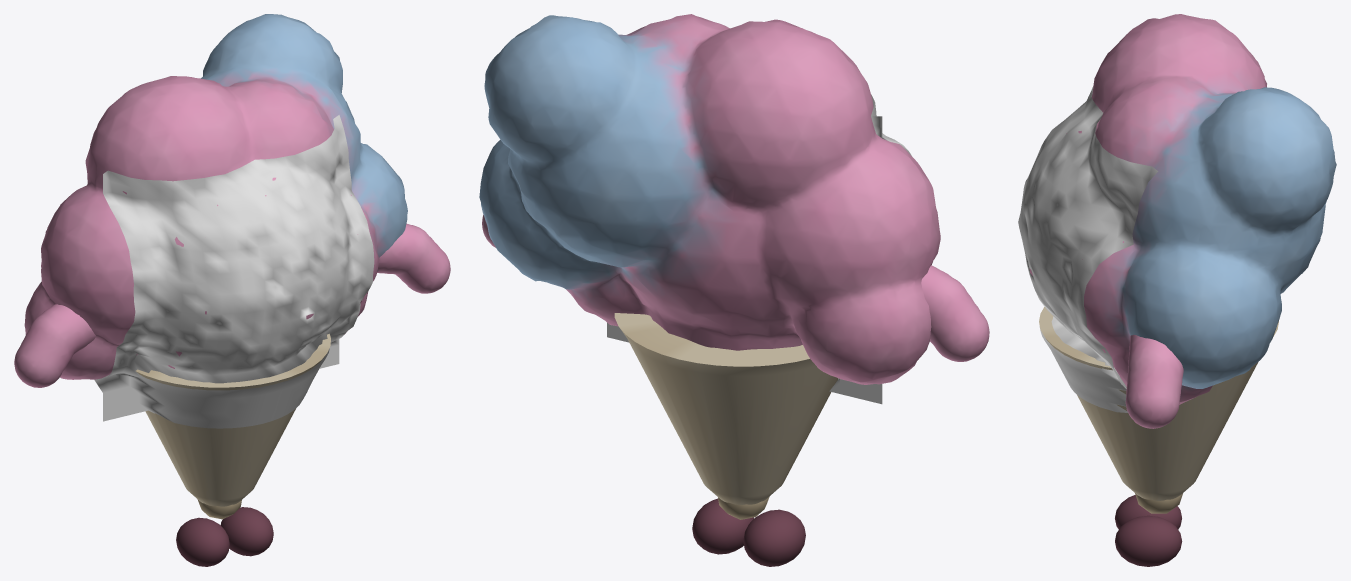
Rendered from folk2_floss.glb.
The picture shows the model from 3 angles, left to right: view 1: azimuth 30°, elevation 25°; view 2: azimuth 150°, elevation 25°; view 3: azimuth 270°, elevation 25°; orthographic projection. The views are drawn at different scales.
Parts seen in each view (by area): view 1: floss_face, floss_body, floss_arm_l, floss_arm_r, floss_foot_l, floss_foot_r; view 2: floss_body, floss_arm_l, floss_foot_l, floss_foot_r, floss_face; view 3: floss_body, floss_face, floss_arm_r, floss_foot_r, floss_foot_l.
Boxes of the visible parts, bbox=[...] form: floss_face: bbox=[94, 115, 374, 428]; floss_body: bbox=[24, 14, 407, 519]; floss_arm_l: bbox=[14, 304, 95, 387]; floss_arm_r: bbox=[377, 223, 450, 293]; floss_foot_l: bbox=[176, 517, 229, 566]; floss_foot_r: bbox=[220, 507, 273, 556]; floss_body: bbox=[479, 14, 940, 519]; floss_arm_l: bbox=[921, 265, 989, 361]; floss_foot_l: bbox=[743, 509, 805, 566]; floss_foot_r: bbox=[692, 498, 753, 554]; floss_face: bbox=[607, 94, 911, 404]; floss_body: bbox=[1029, 14, 1336, 513]; floss_face: bbox=[1018, 86, 1158, 412]; floss_arm_r: bbox=[1125, 334, 1183, 428]; floss_foot_r: bbox=[1115, 515, 1182, 566]; floss_foot_l: bbox=[1115, 495, 1181, 529].
Bounding box in the file's own units: 1.16 × 1.22 × 0.6886.
